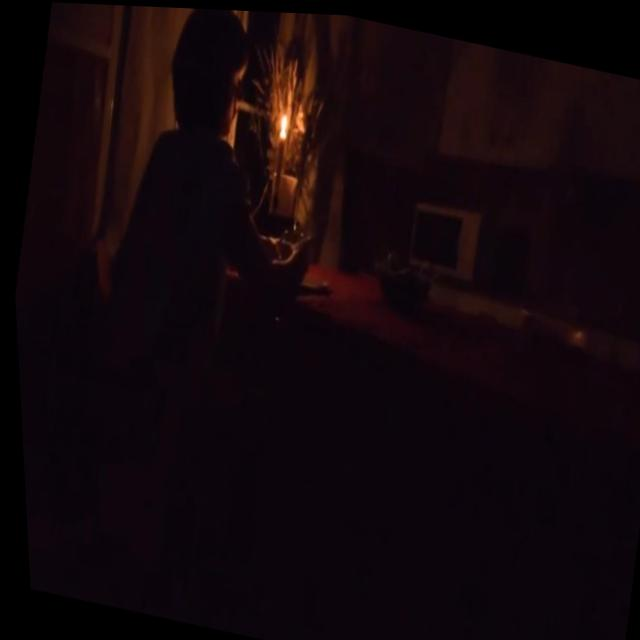fire: (276, 108, 289, 132)
